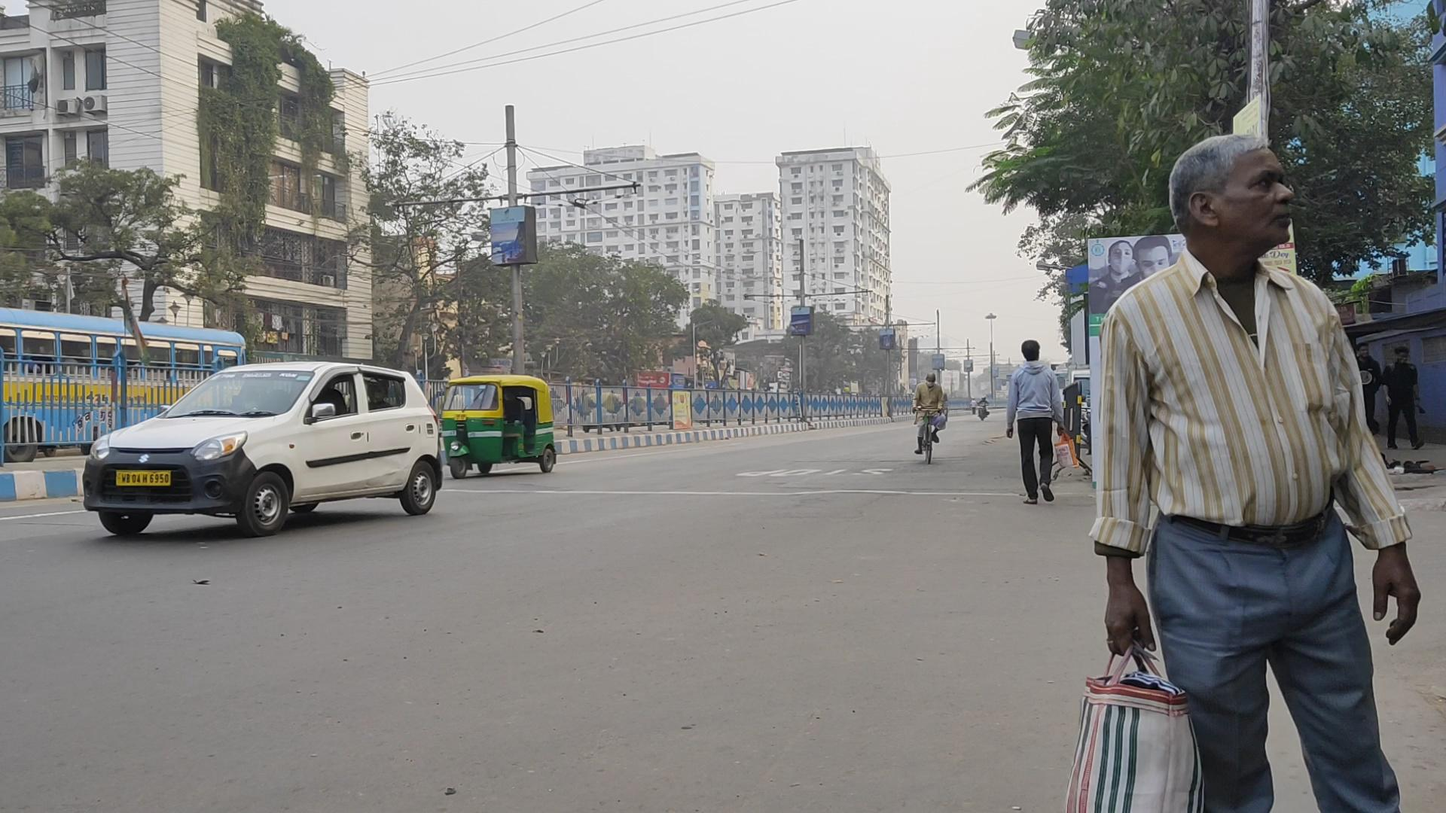Auto: (440, 371, 557, 481)
bike: (912, 372, 947, 465), (976, 396, 990, 422)
car: (84, 358, 444, 537)
